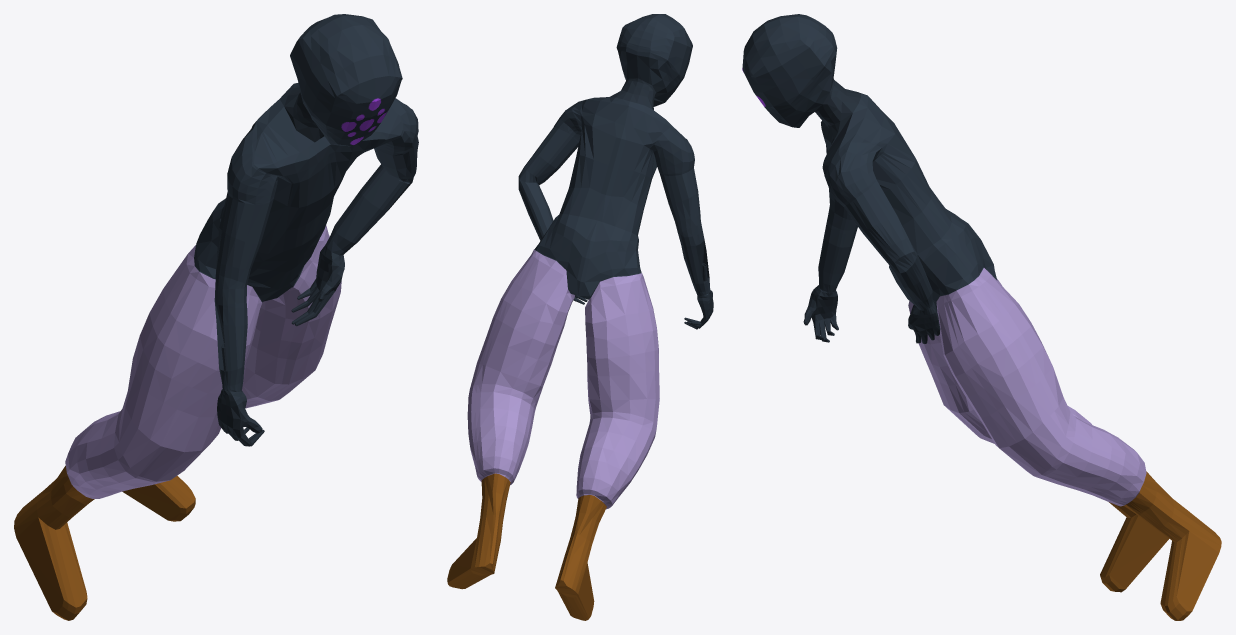
File: Oracle_Die_000006.obj
3 views of the same model, side by side, from view 1: azimuth 30°, elevation 25°; view 2: azimuth 150°, elevation 25°; view 3: azimuth 270°, elevation 25° (orthographic). The views are drawn at different scales.
Visible parts, largest first — view 1: Cube; view 2: Cube; view 3: Cube.
Boxes of the visible parts, x1,y1,x2,y2 form: Cube: [14, 14, 418, 620]; Cube: [447, 14, 713, 620]; Cube: [742, 14, 1221, 620].
Size of the model in its own units: 1.27 by 3.51 by 2.5.
